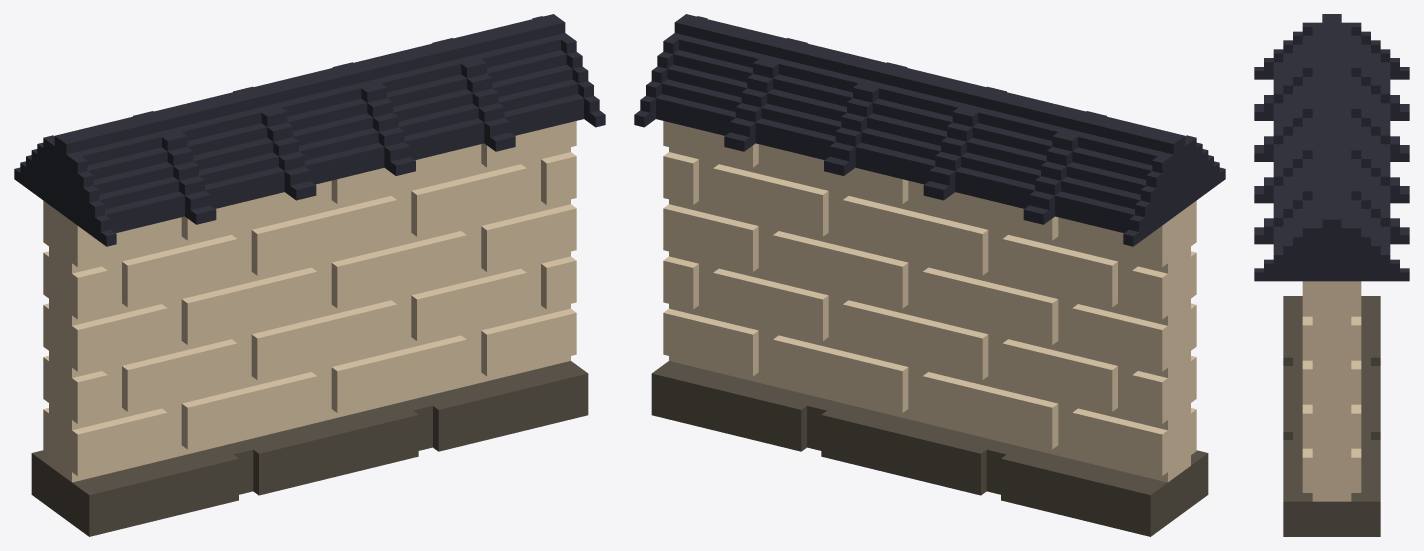
Rendered from Korean_wall_03.FBX.
The picture shows the model from 3 angles, left to right: view 1: azimuth 30°, elevation 25°; view 2: azimuth 150°, elevation 25°; view 3: azimuth 270°, elevation 25°; orthographic projection. The views are drawn at different scales.
Visible parts, largest first — view 1: Voxel_Korean_traditional village-34; view 2: Voxel_Korean_traditional village-34; view 3: Voxel_Korean_traditional village-34.
Boxes of the visible parts, x1,y1,x2,y2 form: Voxel_Korean_traditional village-34: (14, 14, 605, 536); Voxel_Korean_traditional village-34: (634, 14, 1225, 536); Voxel_Korean_traditional village-34: (1254, 14, 1409, 536).
Size of the model in its own units: 49.99 by 35.99 by 16.
1 material, 1 textured.
